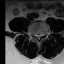CCS_normal: (38, 31, 40, 42)
LFS_normal: (42, 30, 44, 38)
LLS_normal: (40, 31, 42, 39)
RFS_stenosis: (33, 31, 35, 38)
RLS_normal: (35, 32, 38, 40)
